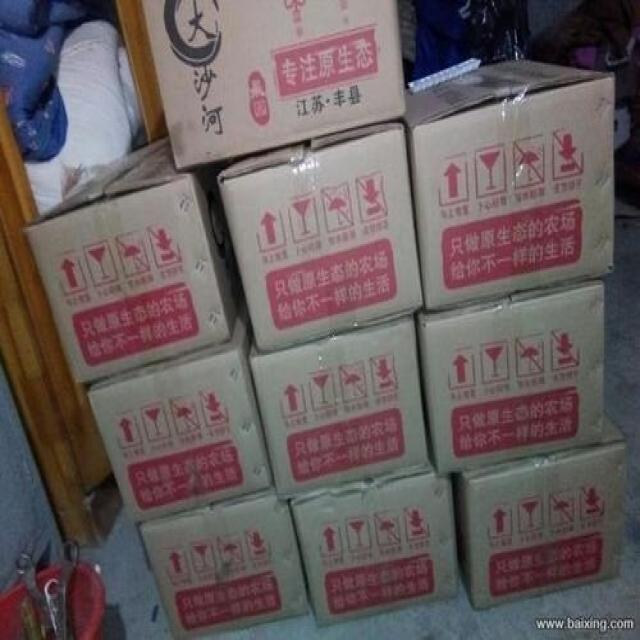box: (23, 137, 242, 386), (403, 58, 614, 311), (218, 121, 424, 352), (142, 0, 407, 171), (87, 297, 275, 522), (416, 278, 605, 476), (447, 408, 625, 613), (250, 312, 429, 502), (288, 464, 462, 628), (137, 486, 308, 640)
